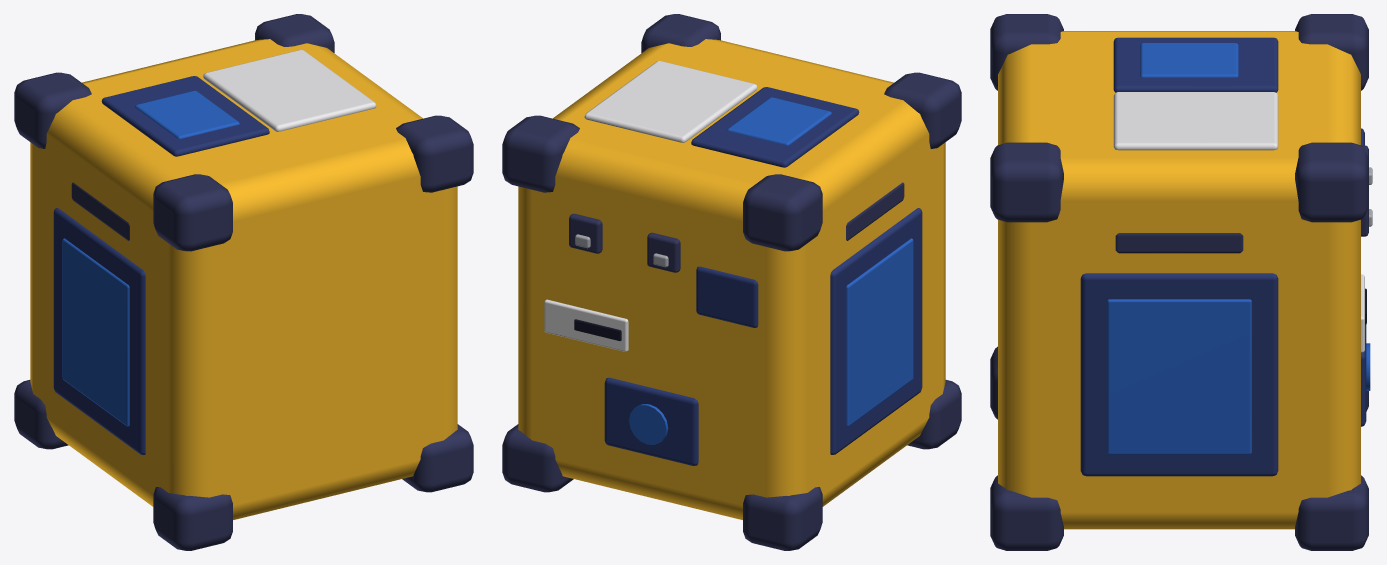
File: prop.props_workrooms.crate_yellow.glb
3 views of the same model, side by side, from view 1: azimuth 30°, elevation 25°; view 2: azimuth 150°, elevation 25°; view 3: azimuth 270°, elevation 25° (orthographic). The views are drawn at different scales.
Parts seen in each view (by area): view 1: prop.props_workrooms.crate_yellow; view 2: prop.props_workrooms.crate_yellow; view 3: prop.props_workrooms.crate_yellow.
Boxes of the visible parts, box(x1,y1,x2,y2) form: prop.props_workrooms.crate_yellow: box(14, 14, 473, 550); prop.props_workrooms.crate_yellow: box(502, 14, 961, 550); prop.props_workrooms.crate_yellow: box(990, 14, 1372, 550).
Bounding box in the file's own units: 0.574 × 0.654 × 0.58.
